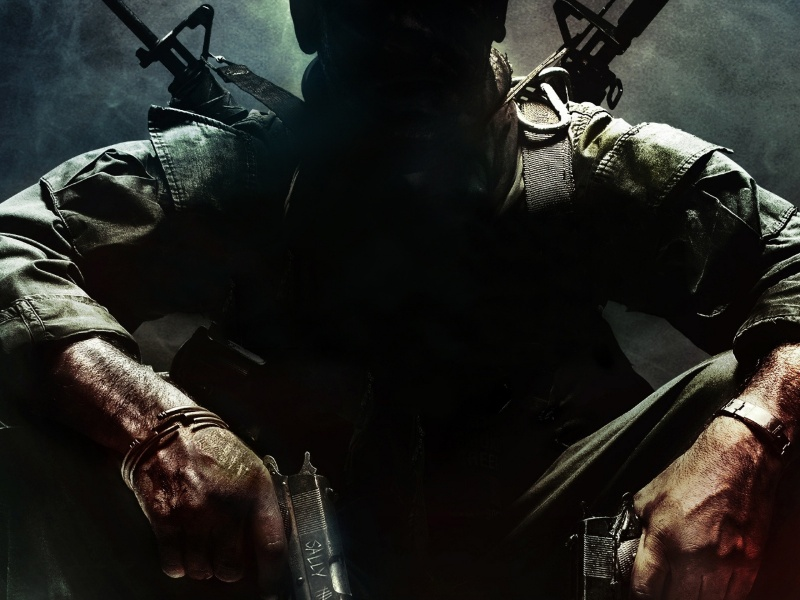gun: (179, 447, 343, 600), (582, 486, 734, 600)
